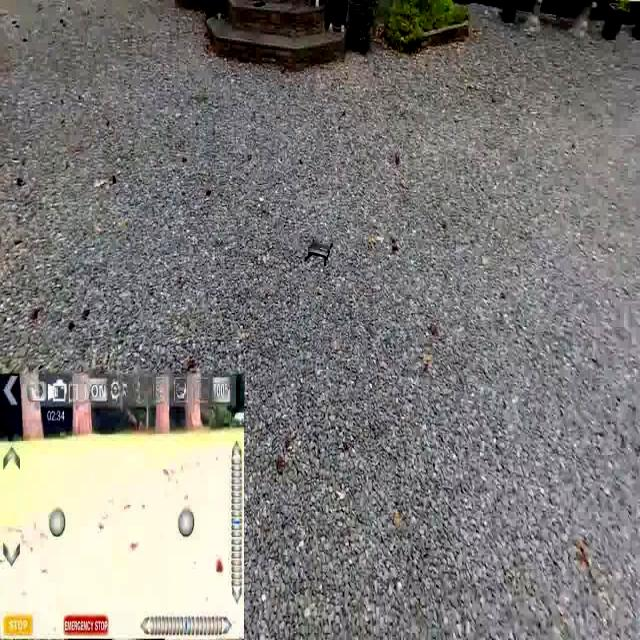drone: (304, 231, 334, 276)
